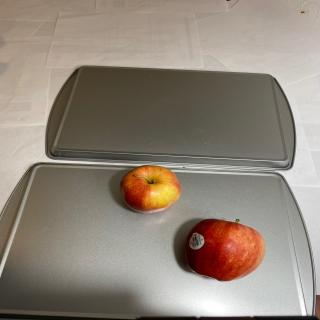Apple: (184, 218, 266, 282), (120, 164, 181, 213)
